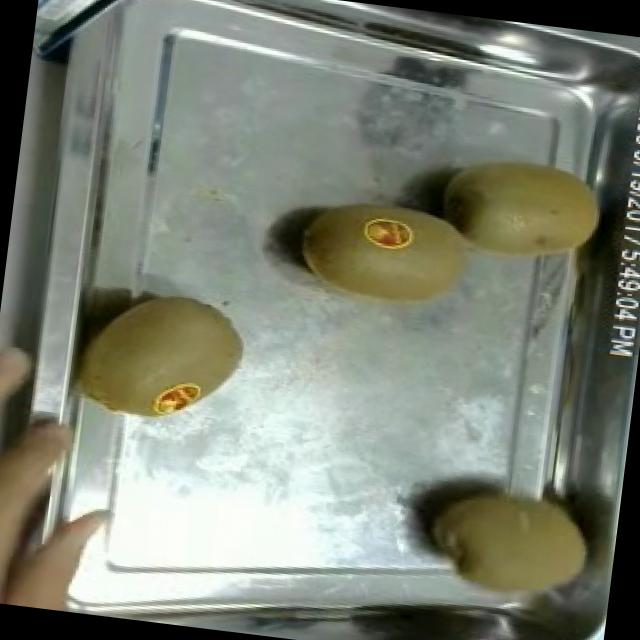Fruit: (398, 462, 612, 630), (67, 277, 255, 443), (282, 182, 483, 324), (420, 138, 615, 282), (0, 400, 115, 614)
